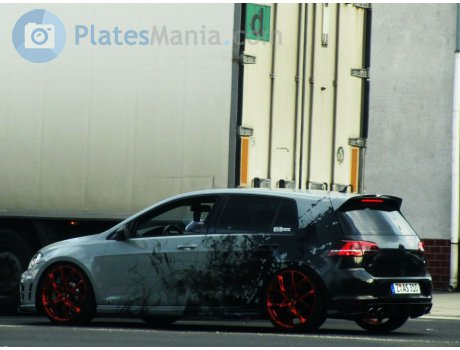License Plates: (392, 282, 419, 291)
